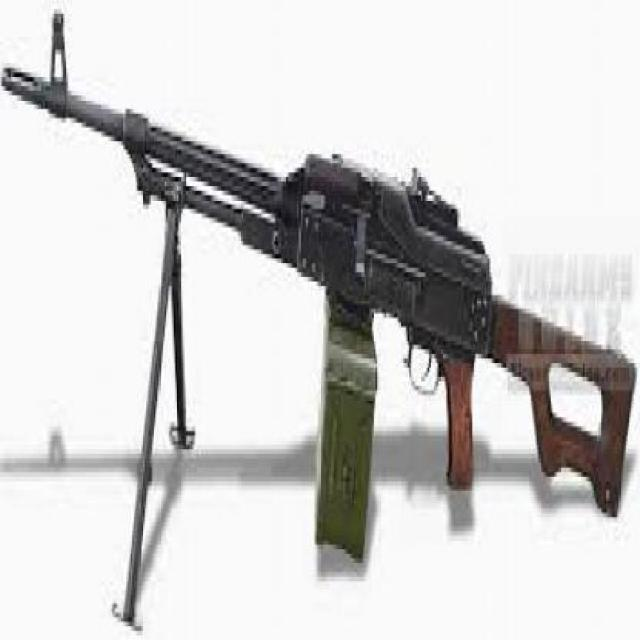weapon: (6, 6, 640, 640)
